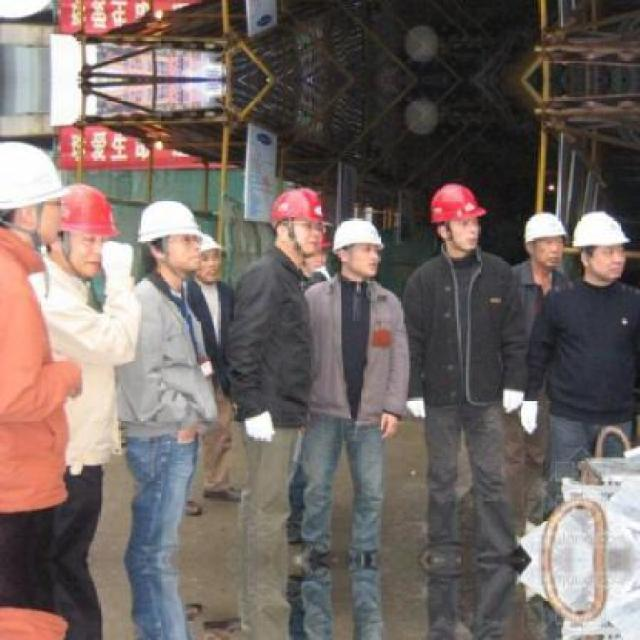helmet: (0, 137, 70, 211), (61, 183, 120, 238), (138, 195, 206, 242), (429, 180, 490, 225), (570, 211, 633, 247), (273, 185, 324, 227), (333, 216, 387, 250), (521, 212, 569, 243)
